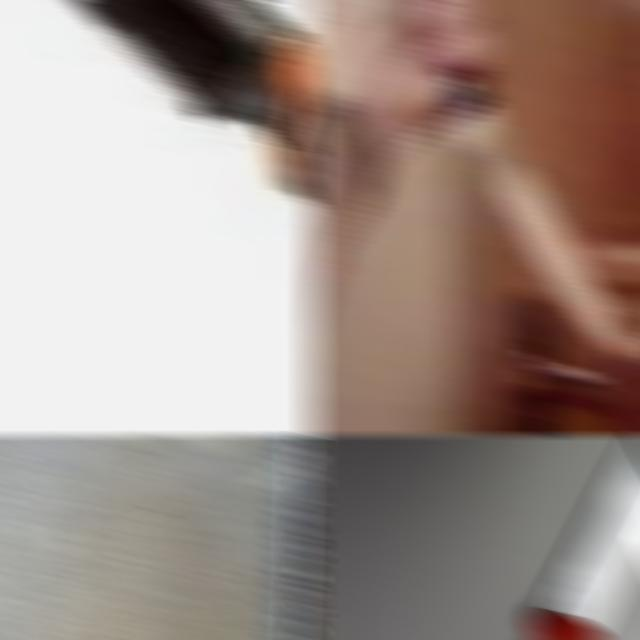Knife: (68, 0, 320, 208), (528, 445, 640, 640)
Knife_Handle: (310, 0, 640, 361)
